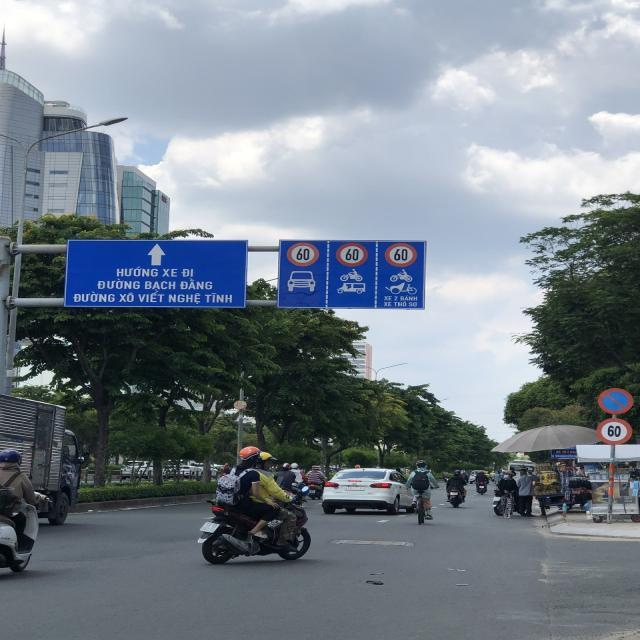Bien bao cam do xe: (594, 383, 640, 417)
Bien bao toc do toi da cho phep: (594, 416, 638, 444), (382, 242, 427, 268), (284, 240, 324, 268), (336, 238, 372, 268)
